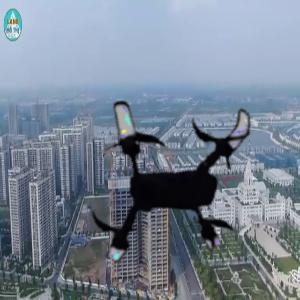drone: (66, 69, 272, 275)
